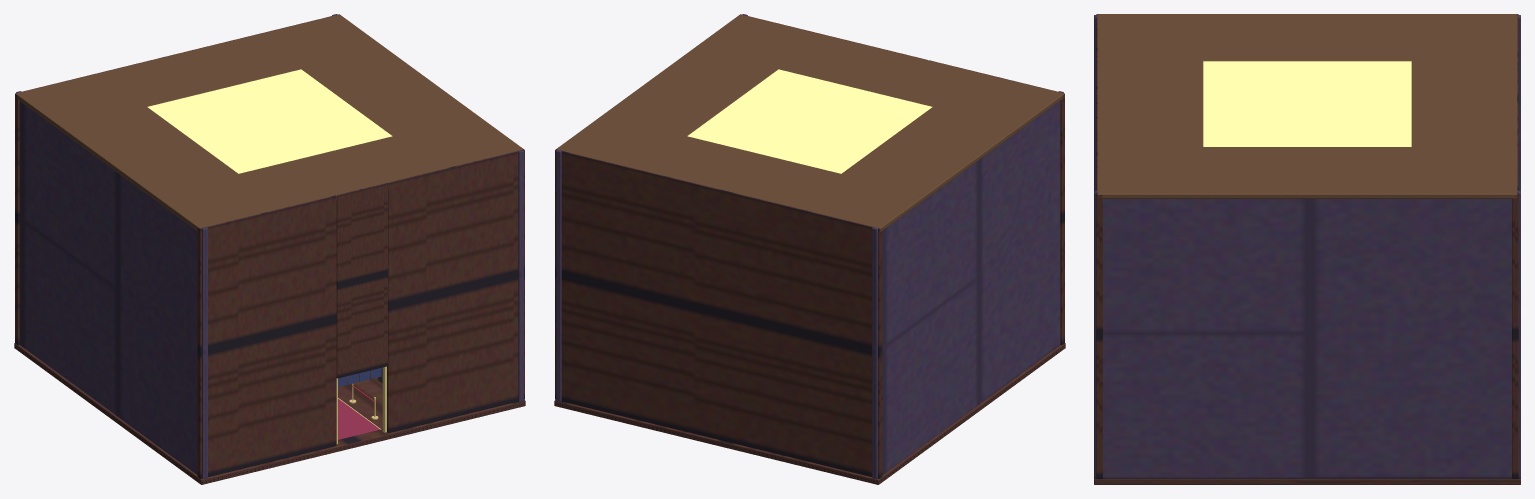
File: kohaku-club.glb
3 renders of one model, left to right at view 1: azimuth 30°, elevation 25°; view 2: azimuth 150°, elevation 25°; view 3: azimuth 270°, elevation 25°, orthographic. The views are drawn at different scales.
Parts seen in each view (by area): view 1: kohaku:stone wood glass metal fabric, kohaku:polished dark walnut, kohaku:amber skylight glass, kohaku:bordeaux wine velvet, kohaku:brushed brass gold; view 2: kohaku:stone wood glass metal fabric, kohaku:polished dark walnut, kohaku:amber skylight glass; view 3: kohaku:stone wood glass metal fabric, kohaku:polished dark walnut, kohaku:amber skylight glass.
Boxes of the visible parts, x1,y1,x2,y2 form: kohaku:stone wood glass metal fabric: [14, 14, 525, 484]; kohaku:polished dark walnut: [15, 14, 523, 231]; kohaku:amber skylight glass: [147, 69, 392, 173]; kohaku:bordeaux wine velvet: [338, 398, 379, 439]; kohaku:brushed brass gold: [336, 366, 386, 444]; kohaku:stone wood glass metal fabric: [554, 14, 1065, 484]; kohaku:polished dark walnut: [556, 14, 1064, 231]; kohaku:amber skylight glass: [687, 69, 932, 173]; kohaku:stone wood glass metal fabric: [1094, 14, 1520, 484]; kohaku:polished dark walnut: [1097, 14, 1517, 198]; kohaku:amber skylight glass: [1203, 61, 1411, 146].
Size of the model in its own units: 15.2 by 11.44 by 15.2.
Materials: 28 (1 with a texture image).
